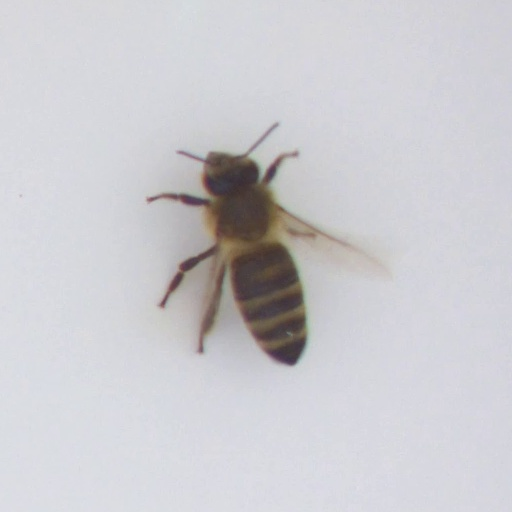Bee: (187, 136, 337, 376)
Thorax: (208, 187, 280, 243)
